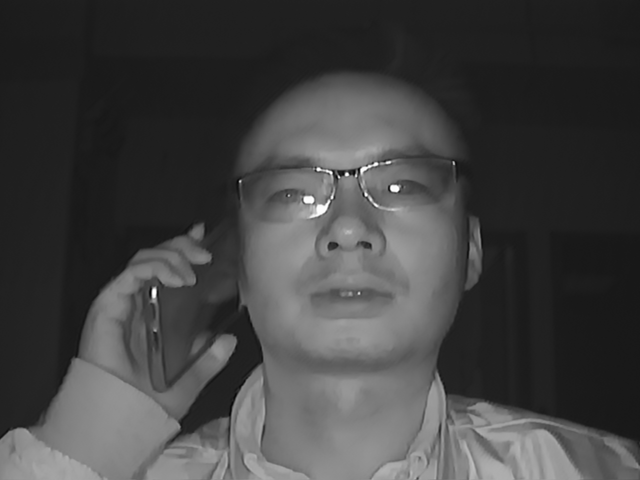hand: (78, 232, 231, 410)
